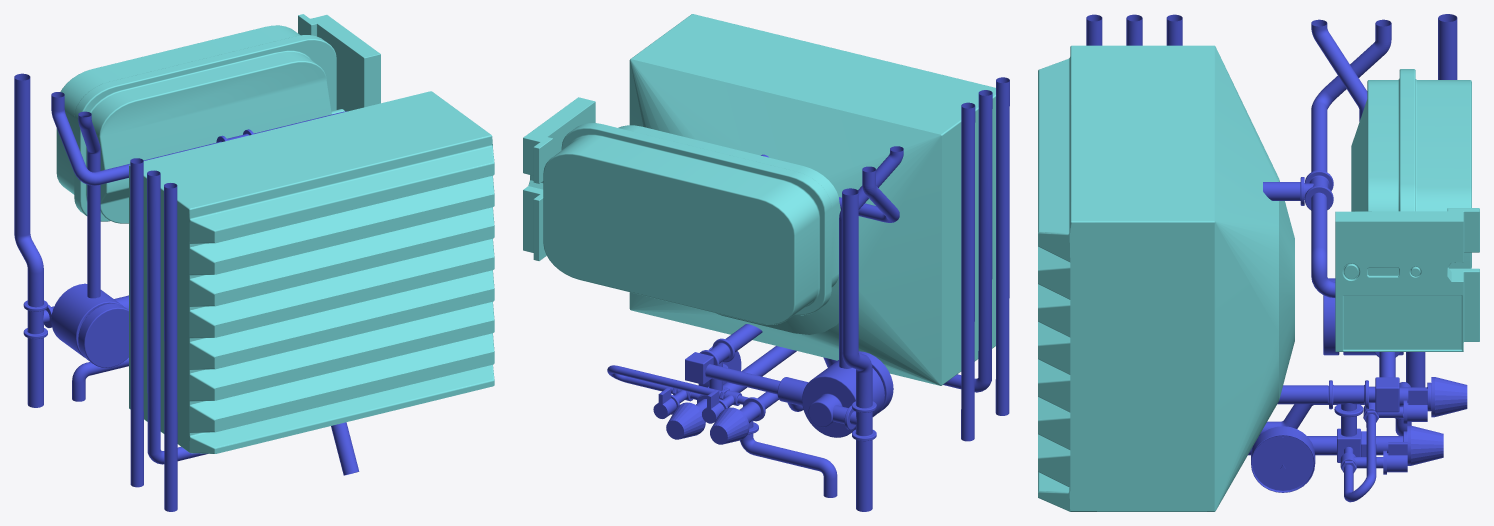
File: Upper.fbx
The picture shows the model from 3 angles, left to right: view 1: azimuth 30°, elevation 25°; view 2: azimuth 150°, elevation 25°; view 3: azimuth 270°, elevation 25°; orthographic projection. The views are drawn at different scales.
Visible parts, largest first — view 1: Tank, CM-1, XL-2, XL-3, BF-1 + GP-6, XL-9, XL-4, S320-ControlPanel, XL-8, XL-1, BP-5; view 2: Tank, CM-1, XL-3, XL-2, XL-4, XL-9, BF-1 + GP-6, S320-ControlPanel, Pipes_Central, U-Pipe, BP-5, XL-1 (+3 smaller); view 3: Tank, S320-ControlPanel, CM-1, XL-1, BP-5, Pipes_Central, U-Pipe, XL-2, XL-3, XL-8, FL-2, FL-1 (+5 smaller).
Boxes of the visible parts, bbox=[...] form: Tank: bbox=[129, 91, 494, 453]; CM-1: bbox=[56, 25, 344, 223]; XL-2: bbox=[14, 73, 52, 407]; XL-3: bbox=[72, 170, 208, 464]; BF-1 + GP-6: bbox=[51, 283, 128, 367]; XL-9: bbox=[130, 158, 143, 487]; XL-4: bbox=[164, 183, 177, 511]; S320-ControlPanel: bbox=[298, 14, 380, 111]; XL-8: bbox=[78, 111, 100, 298]; XL-1: bbox=[51, 92, 347, 185]; BP-5: bbox=[331, 422, 359, 475]; Tank: bbox=[629, 14, 995, 385]; CM-1: bbox=[543, 123, 840, 324]; XL-3: bbox=[739, 90, 992, 497]; XL-2: bbox=[842, 188, 876, 511]; XL-4: bbox=[995, 77, 1009, 415]; XL-9: bbox=[961, 102, 975, 441]; BF-1 + GP-6: bbox=[777, 351, 893, 437]; S320-ControlPanel: bbox=[523, 97, 595, 260]; Pipes_Central: bbox=[685, 324, 780, 407]; U-Pipe: bbox=[607, 365, 748, 407]; BP-5: bbox=[696, 346, 837, 411]; XL-1: bbox=[761, 154, 899, 222]; Tank: bbox=[1038, 45, 1294, 511]; S320-ControlPanel: bbox=[1335, 208, 1479, 351]; CM-1: bbox=[1351, 69, 1471, 268]; XL-1: bbox=[1263, 19, 1391, 297]; BP-5: bbox=[1248, 426, 1407, 492]; Pipes_Central: bbox=[1277, 352, 1399, 462]; U-Pipe: bbox=[1340, 403, 1403, 502]; XL-2: bbox=[1406, 14, 1457, 387]; XL-3: bbox=[1126, 14, 1431, 435]; XL-8: bbox=[1311, 19, 1367, 121]; FL-2: bbox=[1407, 425, 1443, 465]; FL-1: bbox=[1431, 377, 1467, 417].
Bounding box in the file's own units: 55.3 × 53.59 × 55.
